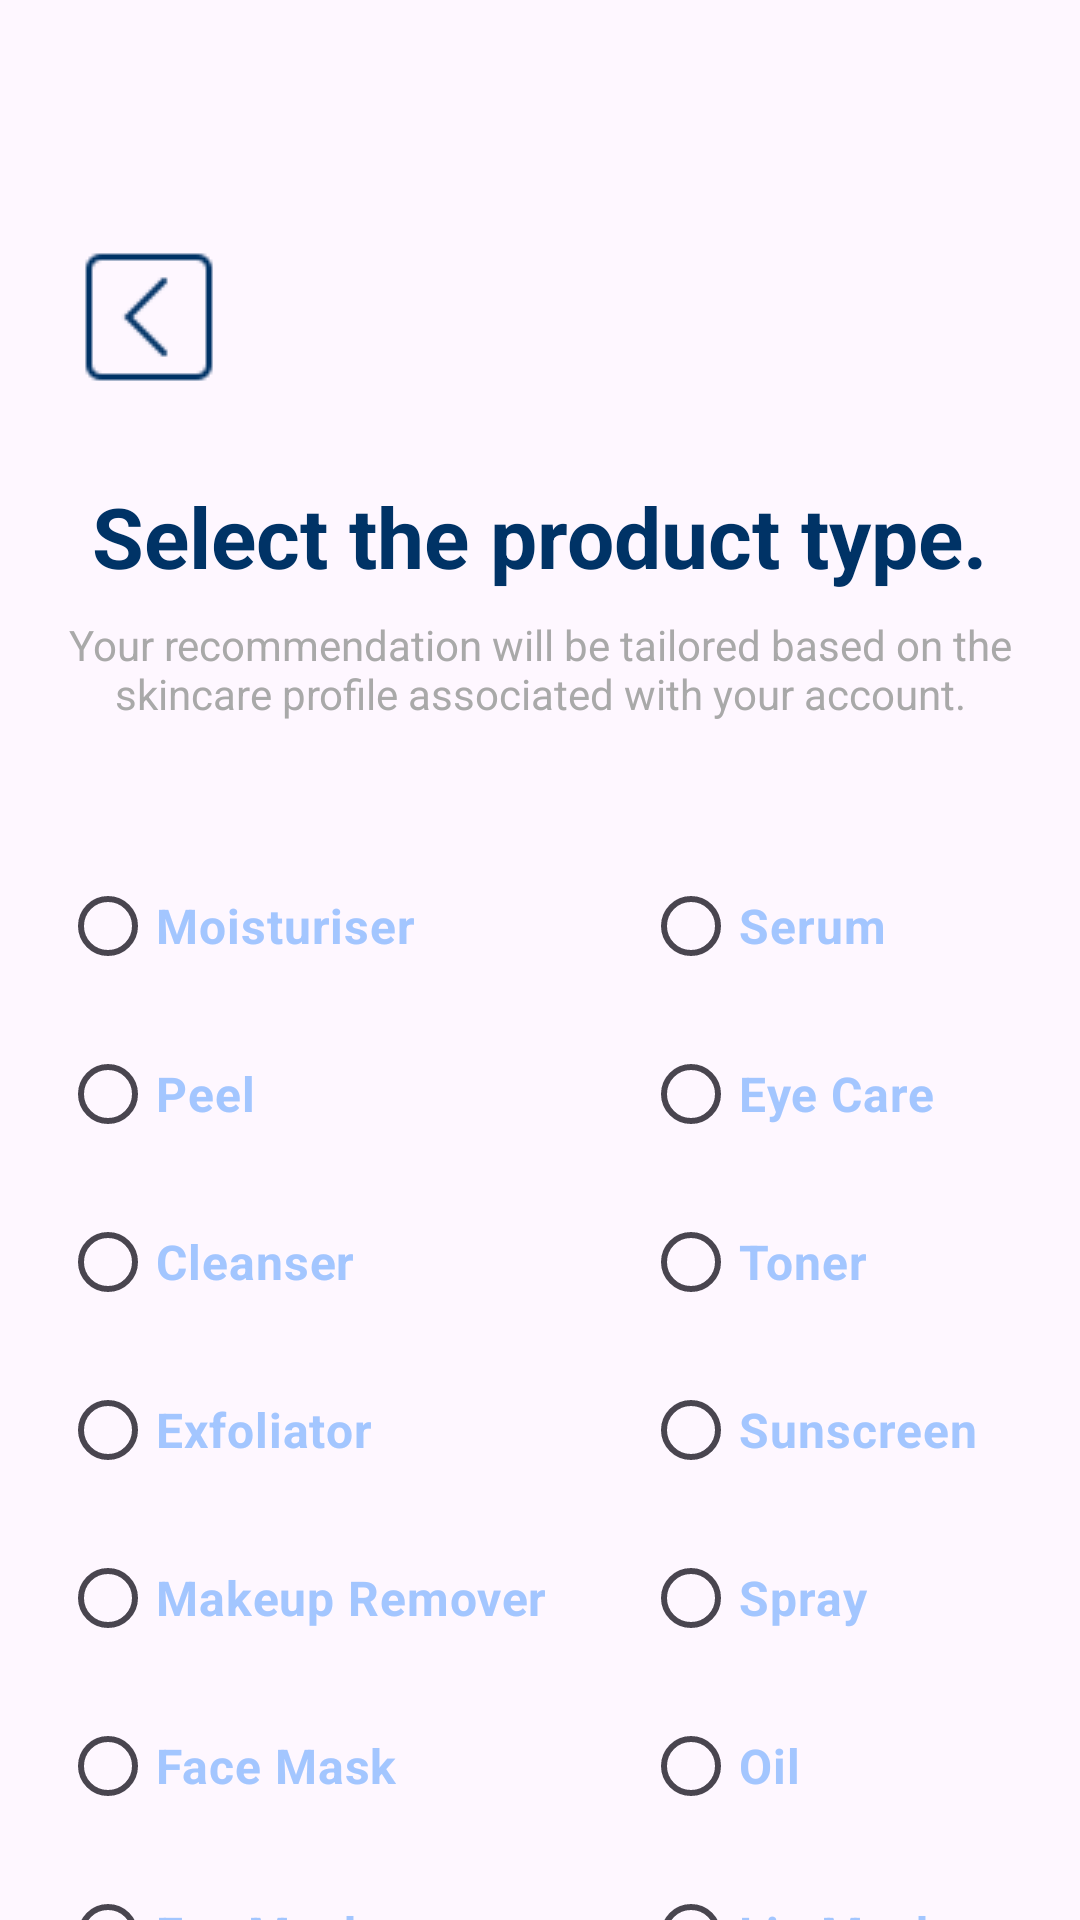

Icon bounding boxes for this 1080x1920 phone screenshot, format (x1, y1, x2, y2):
back button: (85, 253, 213, 381)
